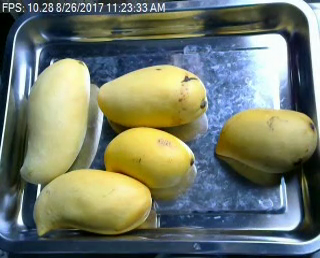Mango: (20, 59, 90, 183), (33, 170, 151, 237), (97, 64, 206, 128), (214, 110, 320, 172), (104, 127, 194, 186)
